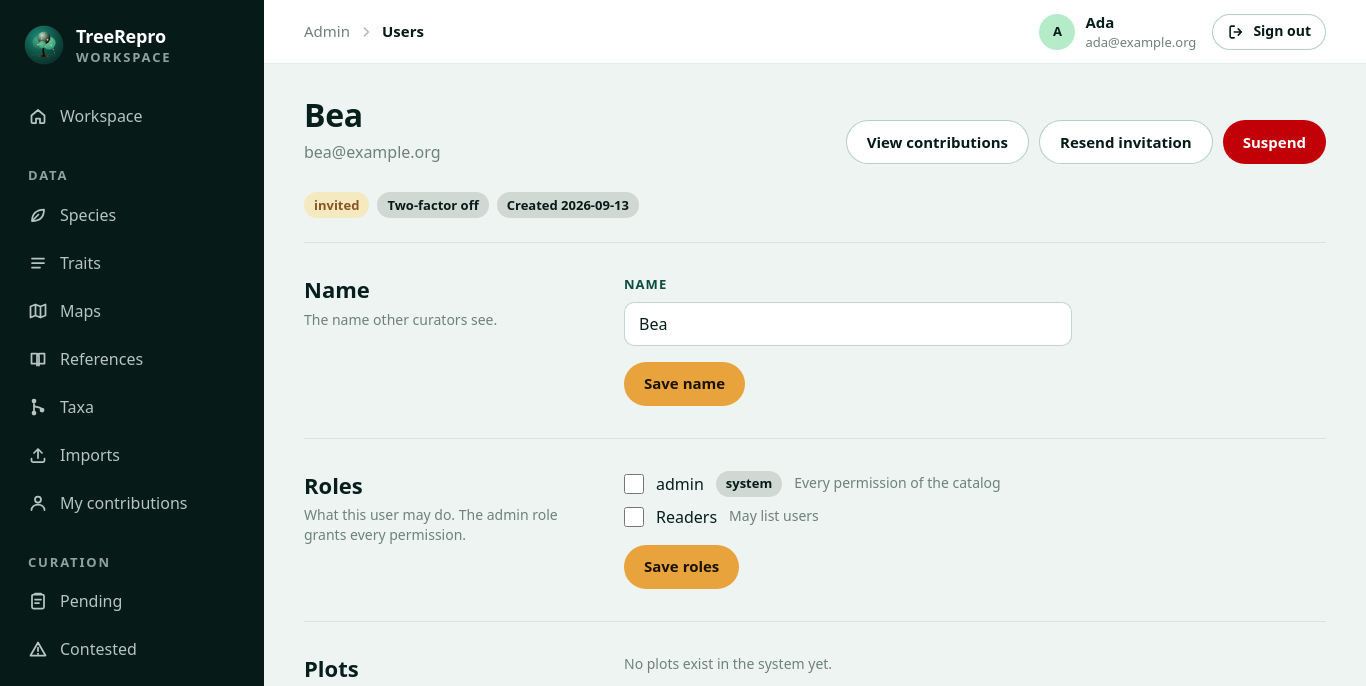
Test: RFC-13 R2, RFC-50 R4 UserPage › RFC-50 R8 resends the invitation only for an invited user; USER_INVALID_STATUS and MAIL_SEND_FAILED are mapped
Expected: the heading "Bea" is shown, [304,93,363,136]
Click the button "Resend invitation".
click(1126, 142)  # box [1039,120,1213,164]
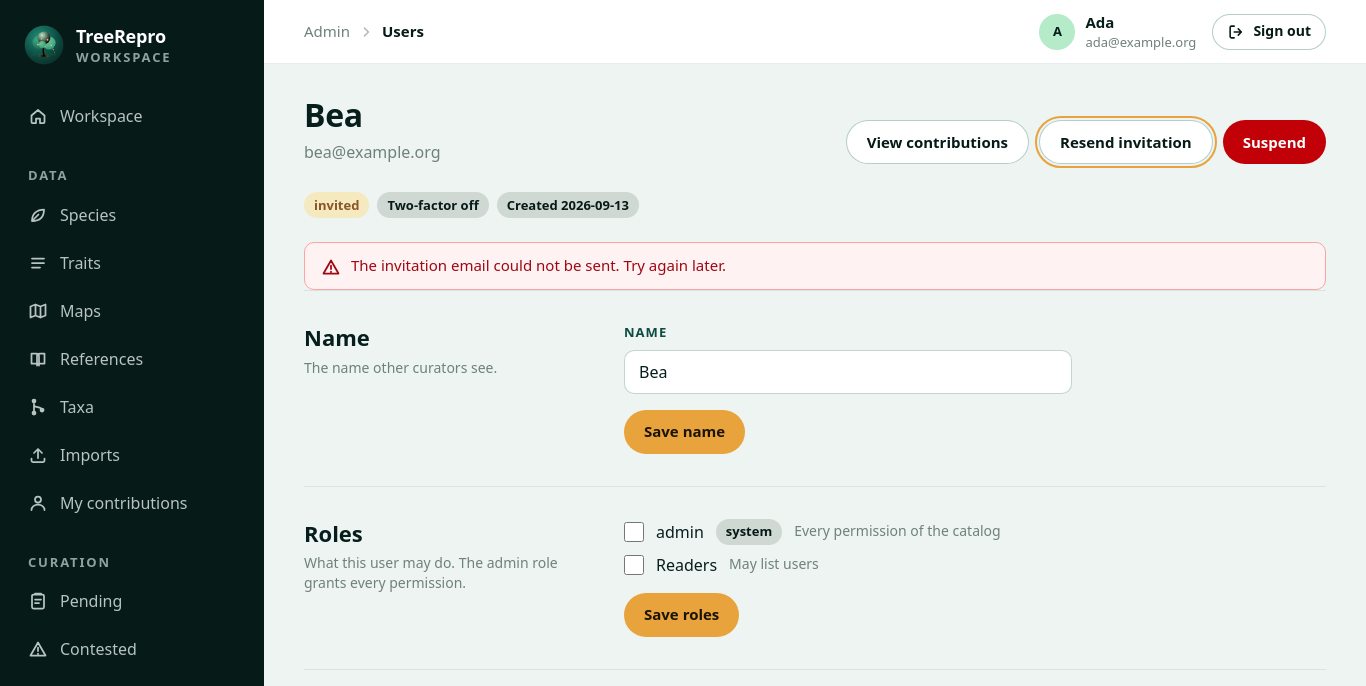
Expected: the message reads "The invitation email could not be sent. Try again later.", [351,255,726,275]
Click the button "Resend invitation".
click(1126, 142)  # box [1039,120,1213,164]
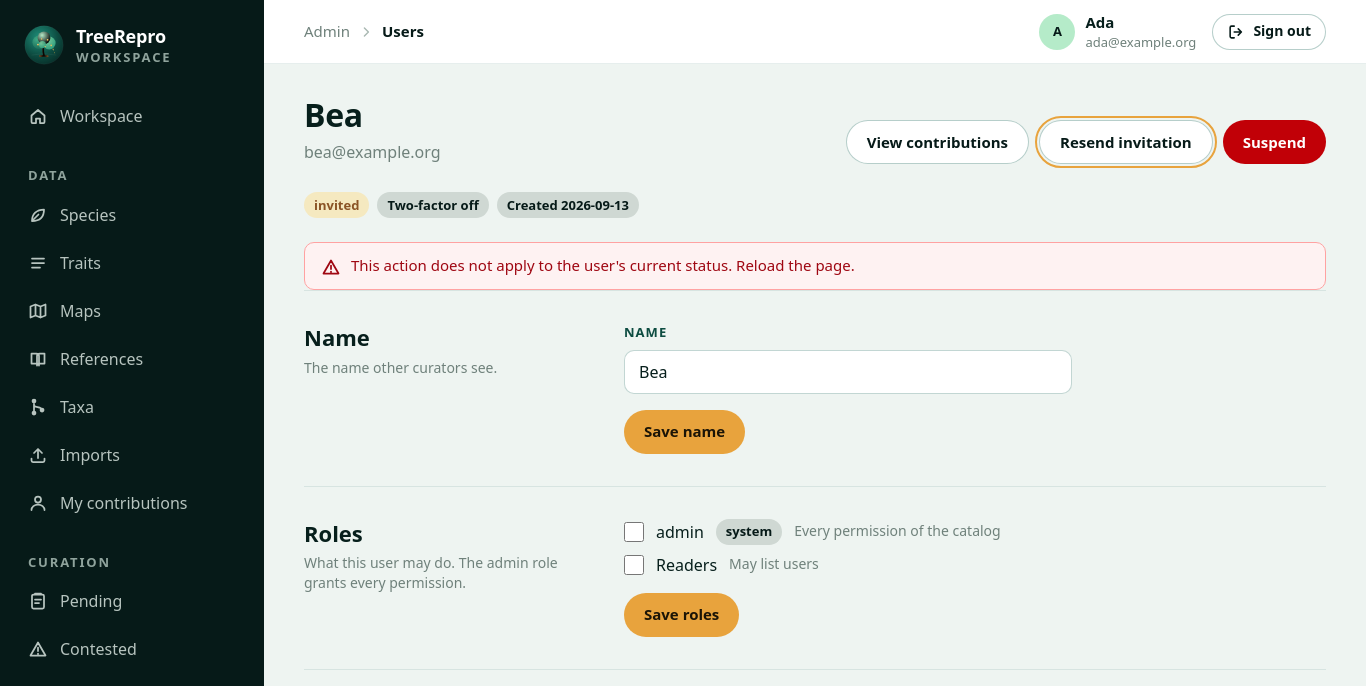
Expected: the message reads "This action does not apply to the user's current status. Reload the page.", [351,255,855,275]
Click the button "Resend invitation".
click(1126, 142)  # box [1039,120,1213,164]
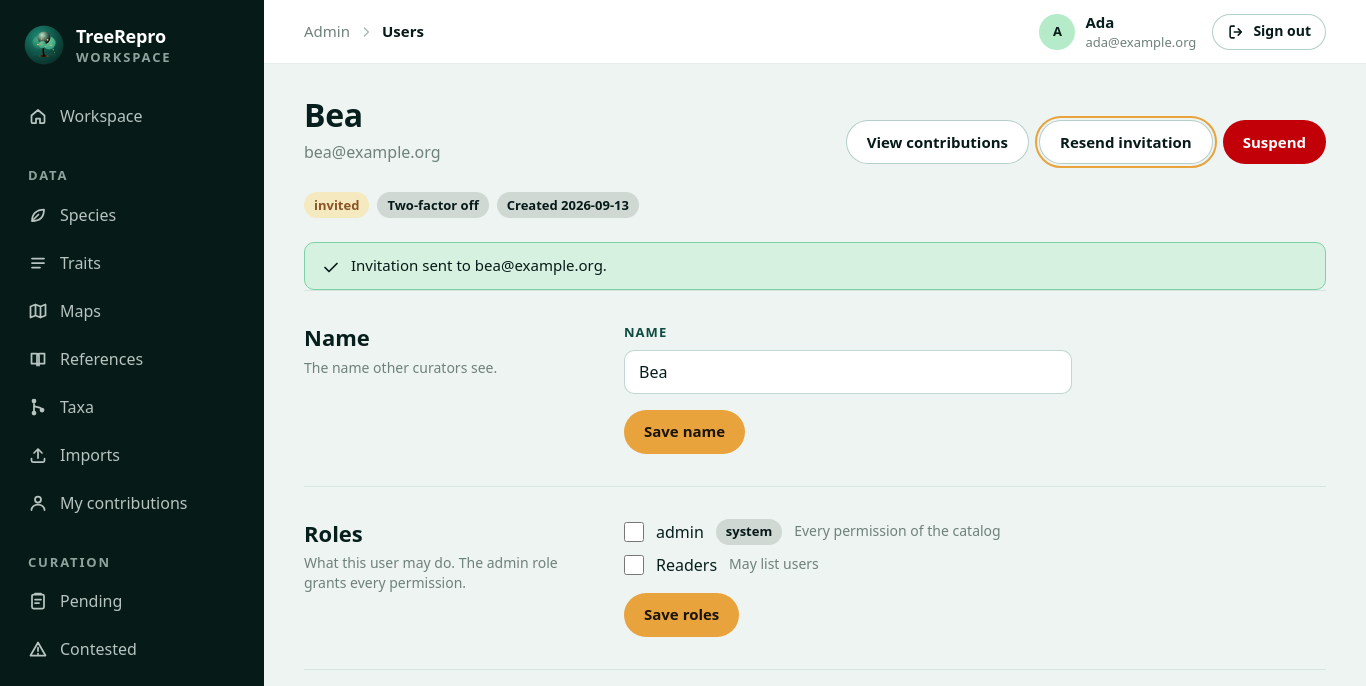
Expected: the message reads "Invitation sent to bea@example.org.", [351,255,607,275]
